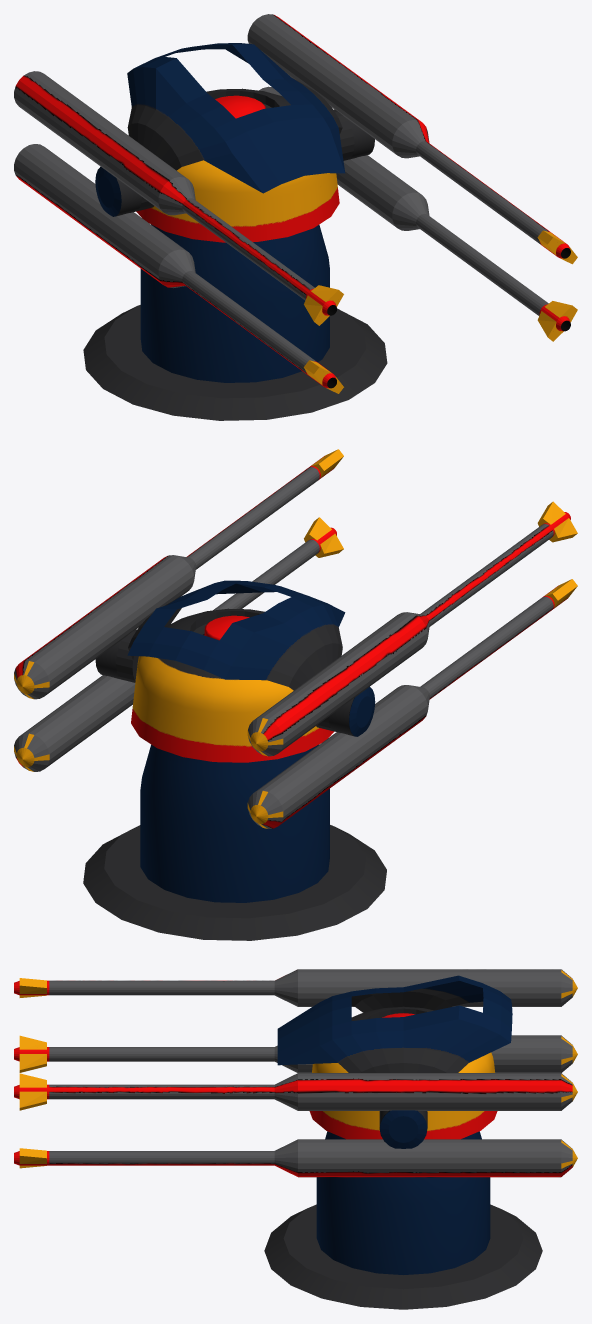
Rendered from turret1.fbx.
The picture shows the model from 3 angles, top to bottom: view 1: azimuth 30°, elevation 25°; view 2: azimuth 150°, elevation 25°; view 3: azimuth 270°, elevation 25°; orthographic projection. The views are drawn at different scales.
Parts seen in each view (by area): view 1: tower, pCylinder1, gun_r3, gun_r4, gun_r2, cap, gun_r5; view 2: tower, pCylinder1, cap, gun_r3, gun_r4, gun_r2, gun_r5; view 3: tower, pCylinder1, gun_r4, gun_r5, gun_r3, gun_r2, cap.
Part boxes in pixels (<box>): tower: <box>83,224,387,420</box>; pCylinder1: <box>95,43,374,216</box>; gun_r3: <box>14,71,343,325</box>; gun_r4: <box>247,14,577,264</box>; gun_r2: <box>14,144,343,393</box>; cap: <box>136,88,339,242</box>; gun_r5: <box>259,86,577,341</box>; tower: <box>83,744,386,940</box>; pCylinder1: <box>95,580,375,736</box>; cap: <box>131,608,334,762</box>; gun_r3: <box>247,501,577,756</box>; gun_r4: <box>14,449,343,699</box>; gun_r2: <box>247,579,577,828</box>; gun_r5: <box>14,517,343,771</box>; tower: <box>264,1131,542,1309</box>; pCylinder1: <box>277,975,512,1148</box>; gun_r4: <box>14,1073,577,1110</box>; gun_r5: <box>14,1139,577,1177</box>; gun_r3: <box>14,969,577,1006</box>; gun_r2: <box>14,1035,577,1072</box>; cap: <box>309,1006,497,1139</box>.
Bounding box in the file's own units: 29.99 × 30.1 × 59.69.
